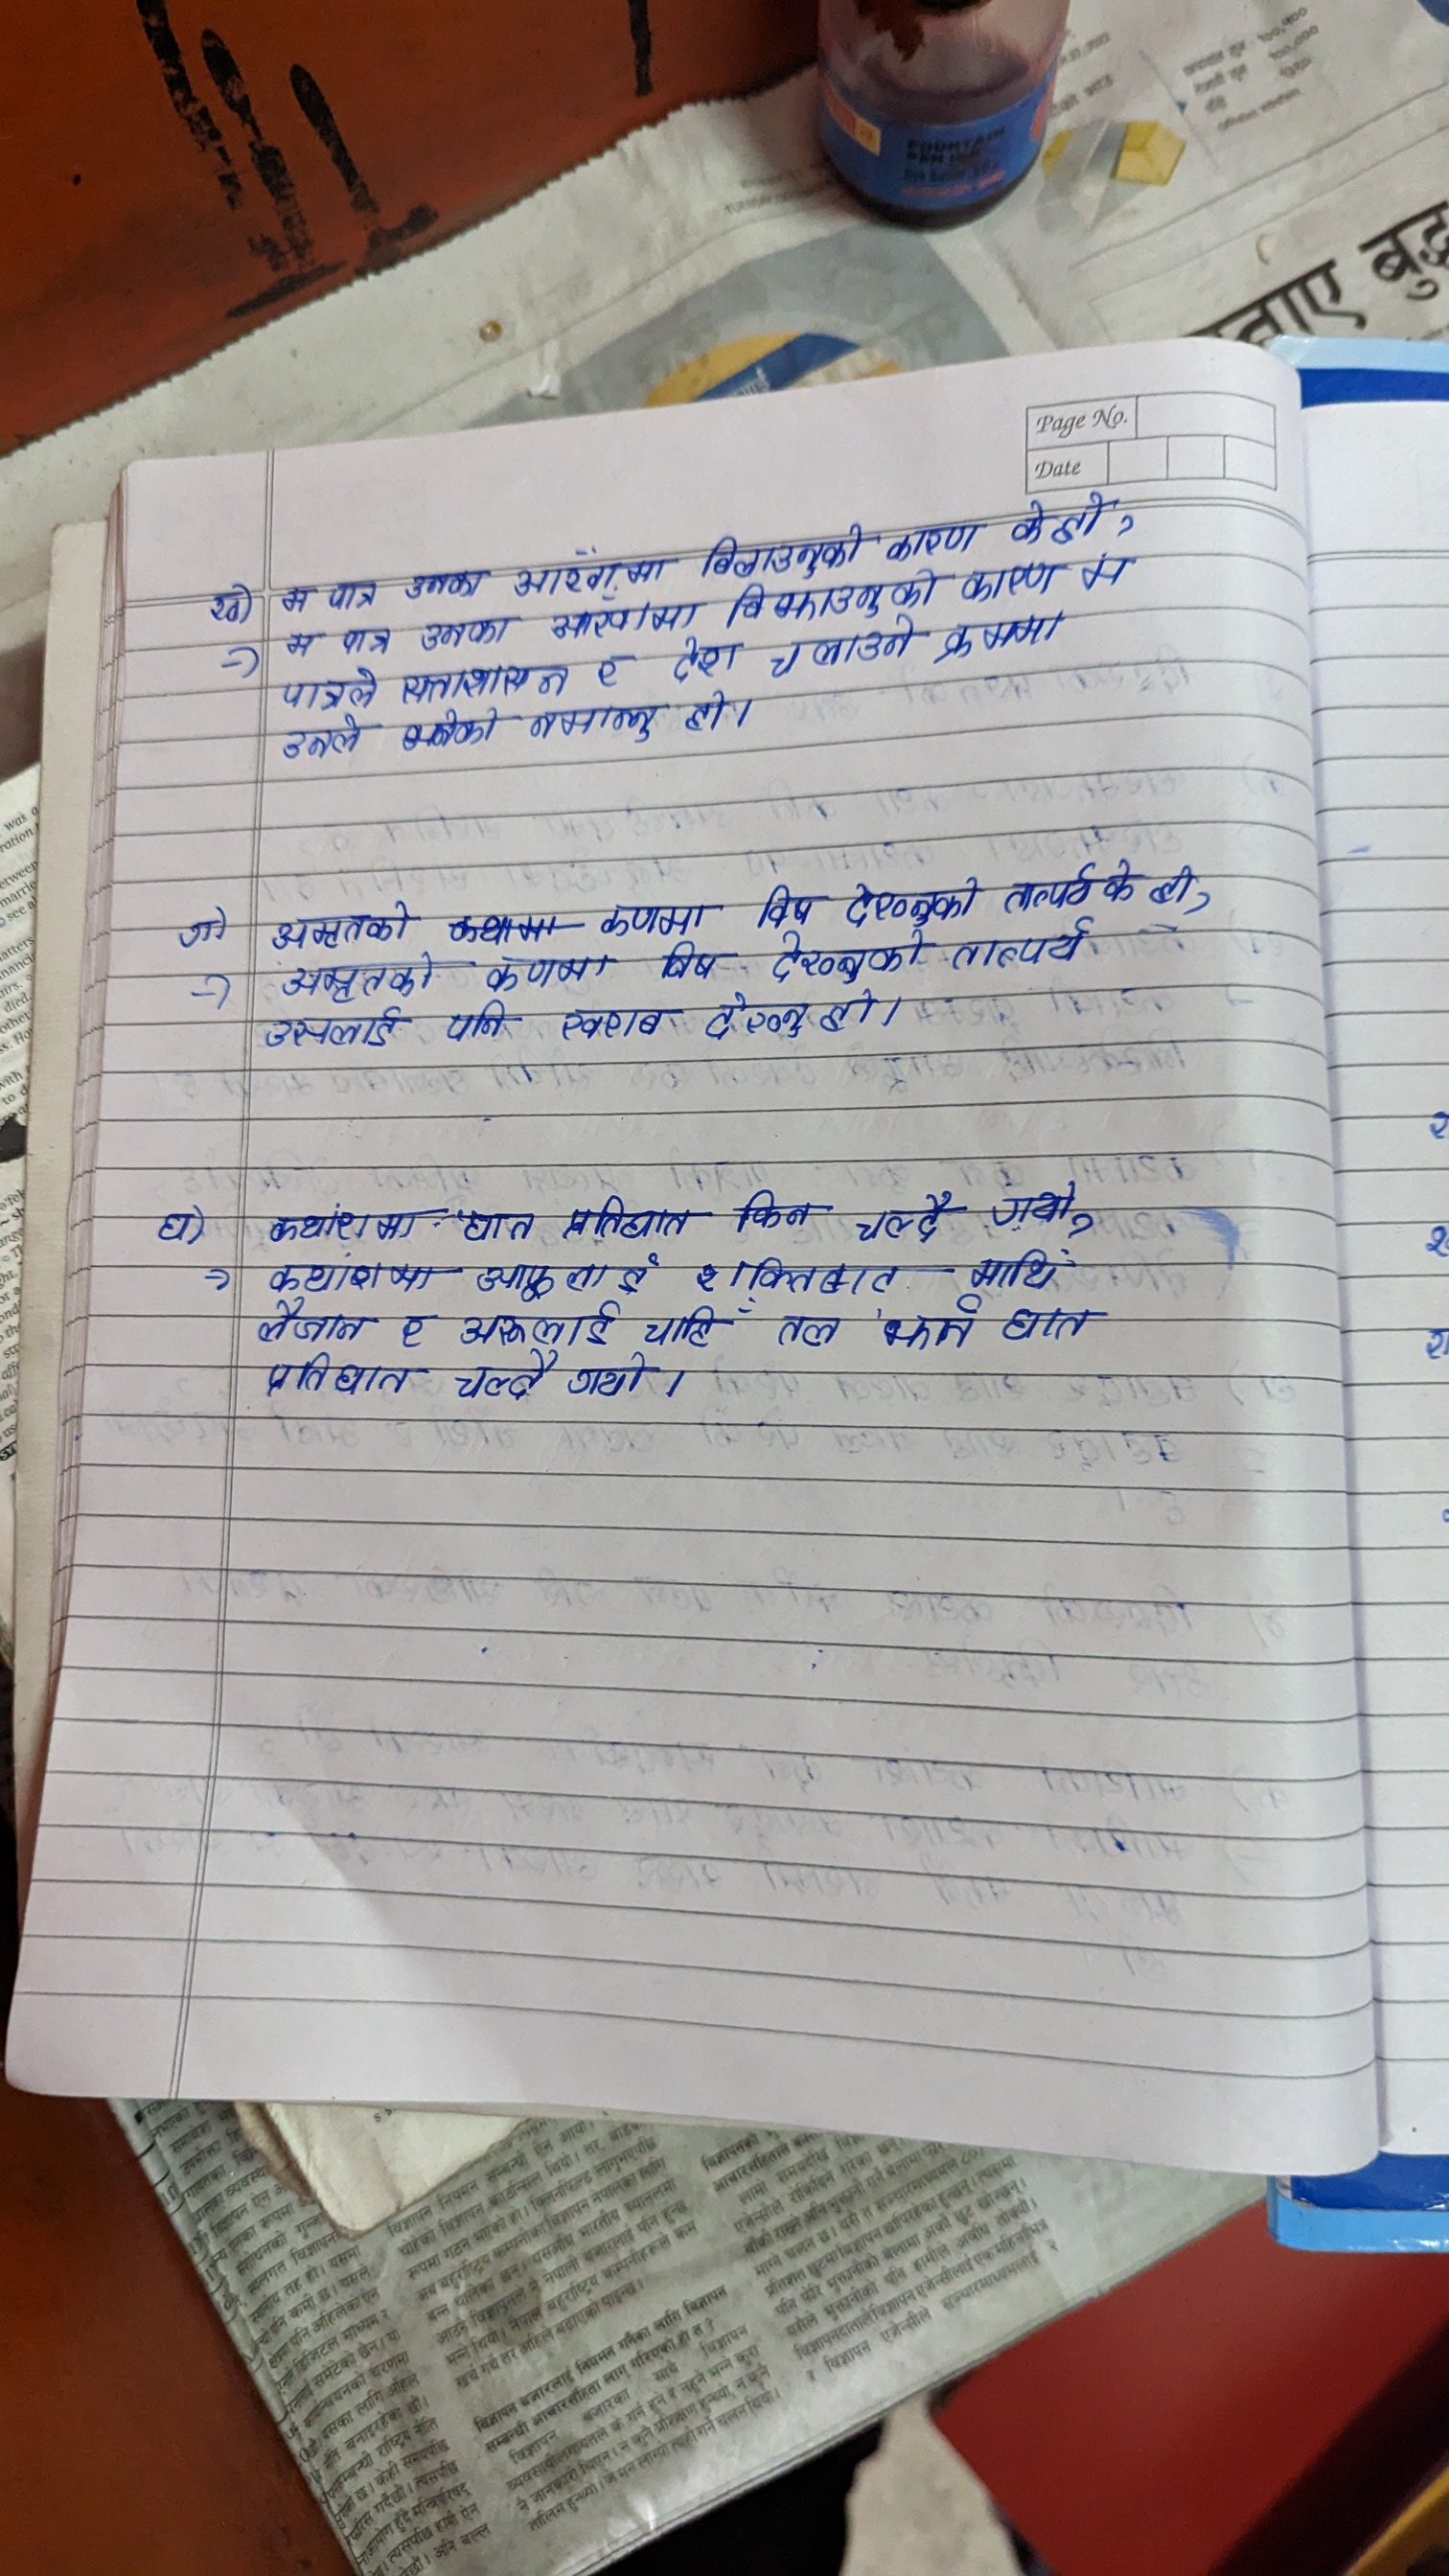text: (695, 515, 860, 577), (763, 617, 922, 679), (676, 1258, 916, 1299), (768, 929, 929, 987), (258, 1352, 421, 1405), (842, 860, 980, 922), (950, 924, 1095, 982), (251, 1196, 428, 1244), (722, 579, 941, 616), (508, 543, 676, 591), (251, 1251, 432, 1295), (455, 1300, 621, 1348), (262, 901, 421, 950), (278, 952, 442, 998), (393, 662, 570, 704), (467, 1256, 660, 1295), (936, 617, 1067, 674), (538, 593, 695, 637), (879, 1300, 985, 1366), (556, 1196, 701, 1244), (849, 1184, 957, 1247), (697, 987, 812, 1044), (527, 706, 662, 754), (264, 1008, 405, 1053), (982, 1175, 1081, 1235), (478, 950, 617, 993), (251, 1297, 373, 1345), (451, 1352, 557, 1407), (994, 862, 1100, 916), (637, 1302, 757, 1348), (881, 511, 982, 566), (547, 1001, 671, 1044), (563, 1352, 658, 1407), (998, 1299, 1100, 1348), (961, 1253, 1083, 1293), (596, 895, 713, 936), (272, 669, 377, 713), (403, 711, 508, 754), (458, 1198, 543, 1249), (725, 1185, 821, 1230), (278, 715, 366, 761), (819, 987, 886, 1047), (186, 571, 257, 628), (1148, 847, 1201, 922), (957, 566, 1063, 603), (1053, 490, 1125, 543), (665, 637, 743, 685), (439, 998, 520, 1042), (414, 614, 515, 649), (752, 878, 821, 929), (398, 568, 494, 602), (152, 1192, 205, 1253), (768, 1307, 844, 1348), (165, 906, 225, 954), (1083, 550, 1143, 598), (681, 694, 740, 741), (1102, 849, 1141, 920), (653, 941, 718, 982), (333, 623, 398, 658), (1001, 497, 1051, 541), (324, 577, 382, 614), (280, 623, 320, 665), (589, 655, 635, 692), (396, 1307, 430, 1348), (278, 582, 315, 616)
